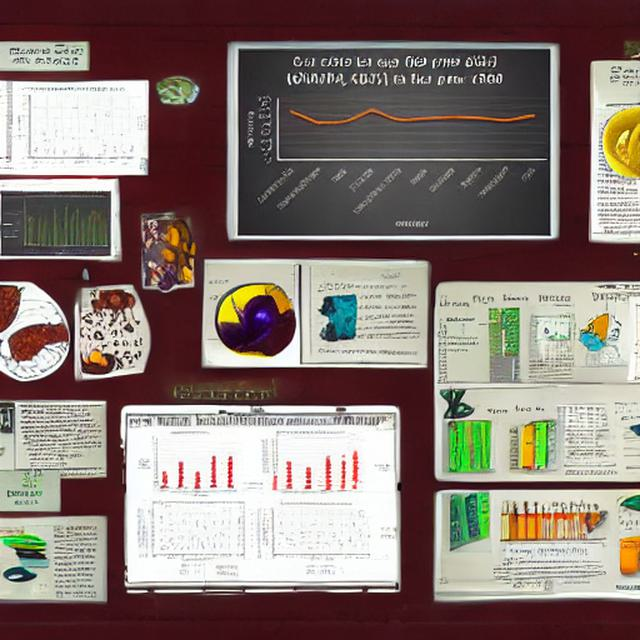Graph: (240, 49, 551, 236), (15, 86, 136, 169), (255, 500, 372, 566), (135, 429, 240, 498), (14, 192, 111, 256)
